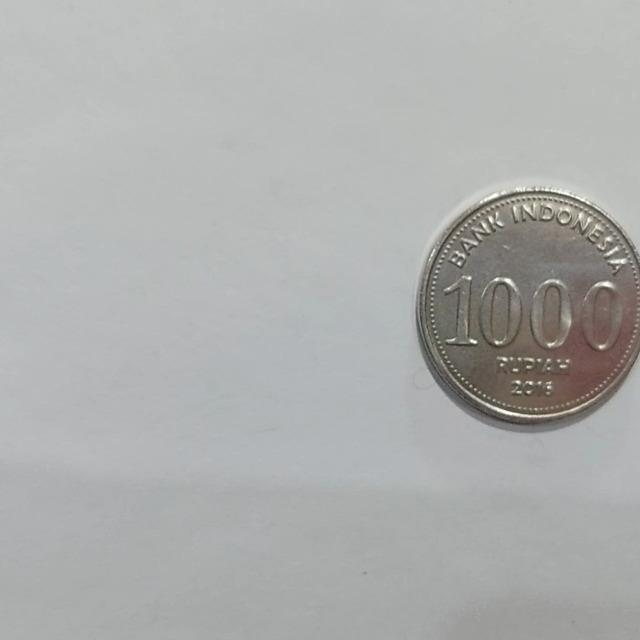Rp100: (413, 183, 640, 429)
